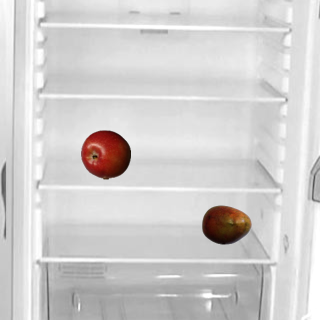Apple Braeburn: (80, 129, 130, 179)
Mango Red: (201, 199, 251, 249)
